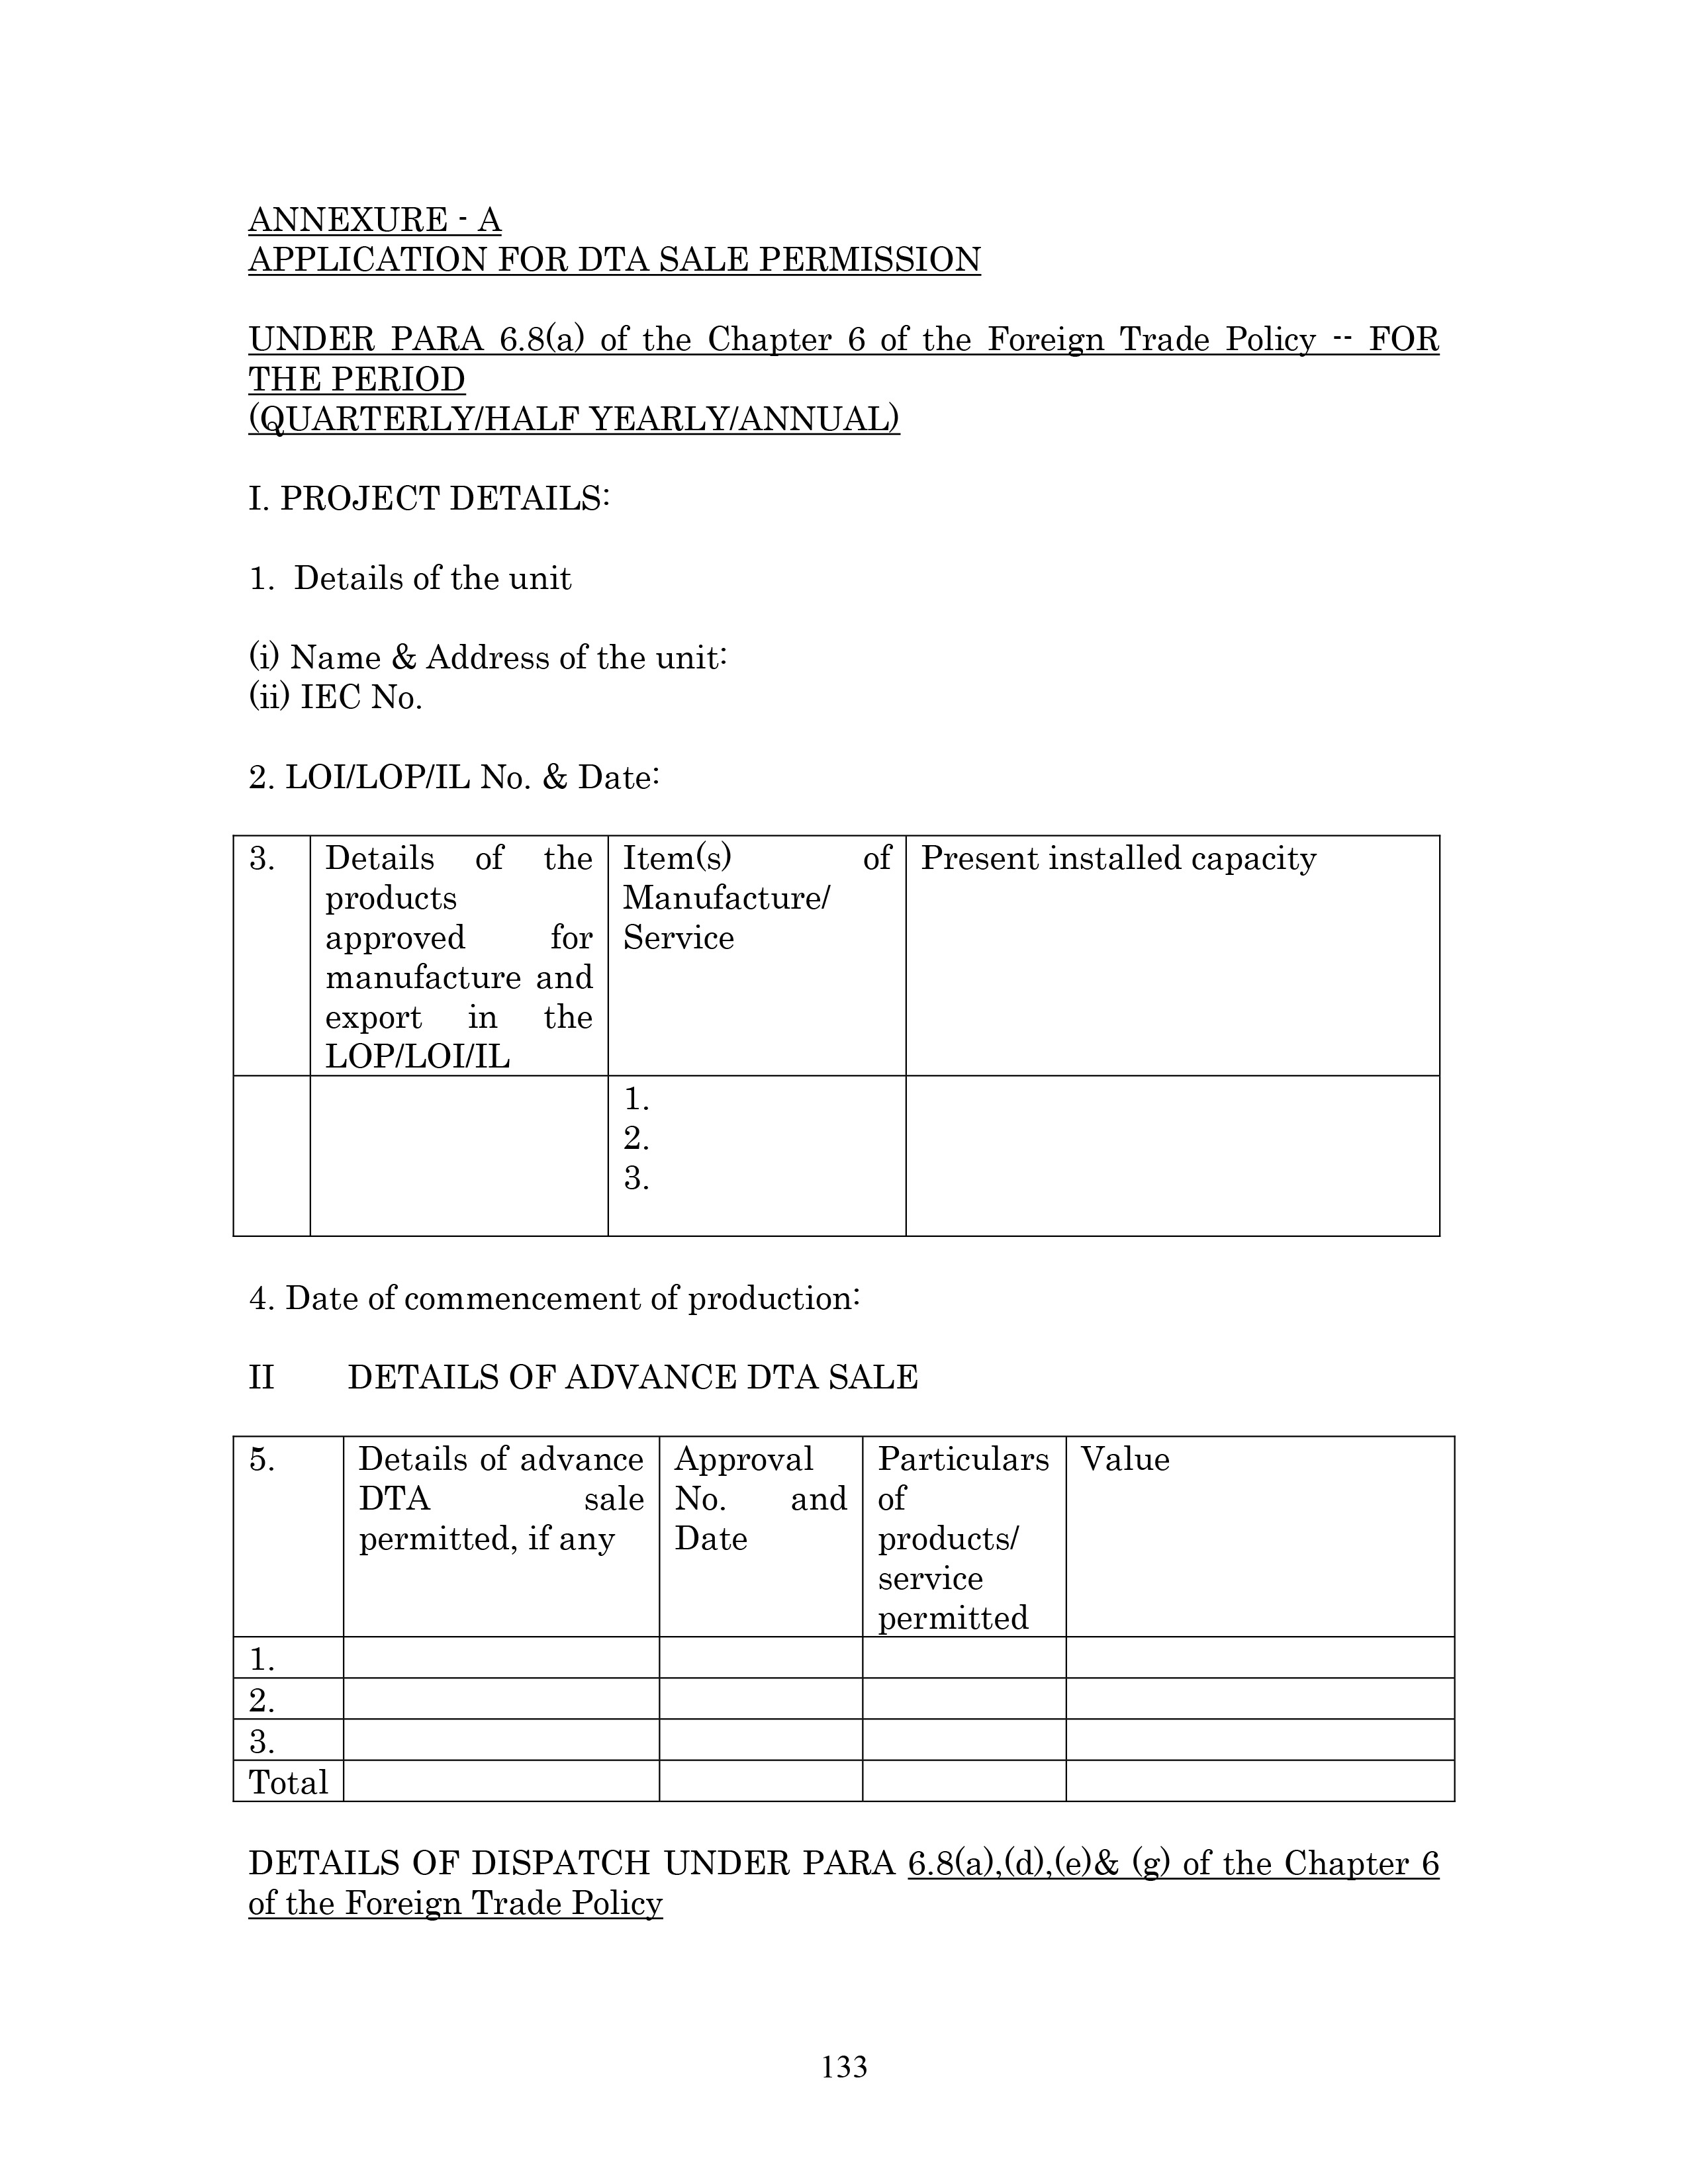list: (227, 473, 709, 805), (232, 1266, 883, 1324)
section: (216, 1347, 918, 1406)
table: (227, 830, 1468, 1269), (220, 1441, 1468, 1812)
text: (216, 177, 1465, 440), (223, 1831, 1456, 1938)
